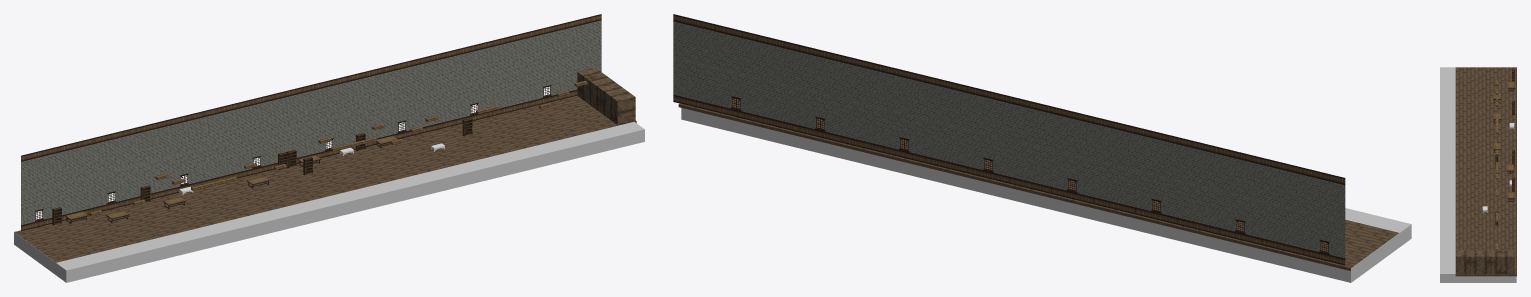
File: Blend_Hallway_1.fbx
3 renders of one model, left to right at view 1: azimuth 30°, elevation 25°; view 2: azimuth 150°, elevation 25°; view 3: azimuth 270°, elevation 25°, orthographic. The views are drawn at different scales.
Parts seen in each view (by area): view 1: Cube__5__1, Cube, Plane.016, Plane.017, Plane.027, Plane.014, Plane.015, Plane.021, Plane.022, Plane.023, Plane.024, Plane.032 (+53 smaller); view 2: Cube__5__1, Plane.014, Plane.015, Plane.018, Plane.019, Plane.020, Plane.022, Plane.023, Plane.028, Plane.031, Plane.013, Plane.016 (+23 smaller); view 3: Cube__5__1, Cube, Cube.078, Cube.079, Cube.080, Cube.081, Cube.090, Cube.094, Cube.089, Cube.077, Cube.091, Cube.082 (+25 smaller).
Boxes of the visible parts, bbox=[...] form: Cube__5__1: bbox=[14, 121, 644, 282]; Cube: bbox=[577, 67, 635, 125]; Plane.016: bbox=[130, 120, 166, 166]; Plane.017: bbox=[166, 111, 202, 157]; Plane.027: bbox=[456, 40, 492, 87]; Plane.014: bbox=[57, 138, 93, 184]; Plane.015: bbox=[93, 129, 129, 175]; Plane.021: bbox=[311, 76, 347, 122]; Plane.022: bbox=[347, 67, 383, 113]; Plane.023: bbox=[384, 58, 420, 104]; Plane.024: bbox=[420, 49, 456, 95]; Plane.032: bbox=[565, 14, 601, 60]; Cube__5__1: bbox=[681, 108, 1411, 282]; Plane.014: bbox=[1261, 157, 1303, 211]; Plane.015: bbox=[1219, 147, 1261, 201]; Plane.018: bbox=[1093, 116, 1135, 170]; Plane.019: bbox=[1051, 106, 1093, 160]; Plane.020: bbox=[1009, 96, 1051, 149]; Plane.022: bbox=[925, 75, 967, 129]; Plane.023: bbox=[883, 65, 925, 119]; Plane.028: bbox=[757, 34, 799, 88]; Plane.031: bbox=[715, 24, 757, 78]; Plane.013: bbox=[1303, 168, 1345, 221]; Plane.016: bbox=[1177, 137, 1219, 190]; Cube__5__1: bbox=[1440, 67, 1516, 282]; Cube: bbox=[1456, 250, 1514, 274]; Cube.078: bbox=[1455, 67, 1486, 80]; Cube.079: bbox=[1455, 80, 1486, 93]; Cube.080: bbox=[1455, 93, 1486, 106]; Cube.081: bbox=[1455, 106, 1486, 119]; Cube.090: bbox=[1455, 222, 1486, 235]; Cube.094: bbox=[1455, 235, 1486, 248]; Cube.089: bbox=[1455, 209, 1486, 222]; Cube.077: bbox=[1486, 222, 1516, 235]; Cube.091: bbox=[1486, 235, 1516, 248]; Cube.082: bbox=[1455, 119, 1486, 131].
Size of the model in its own units: 17069 by 2459 by 2643.
